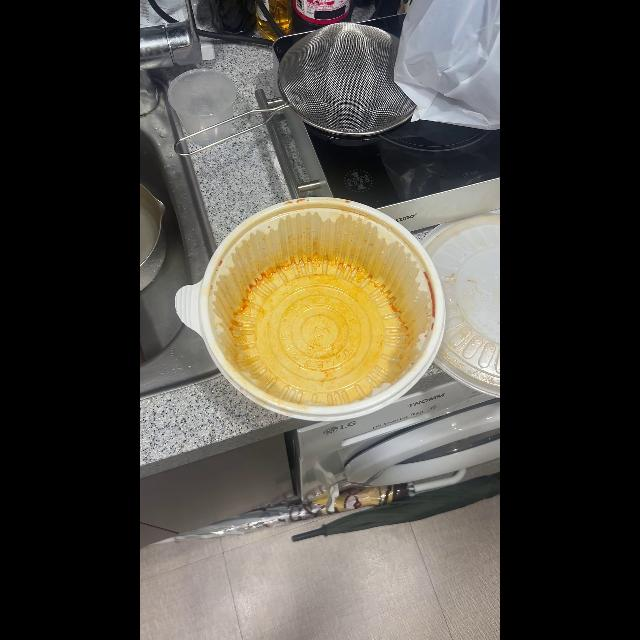dirty: (212, 192, 442, 414)
